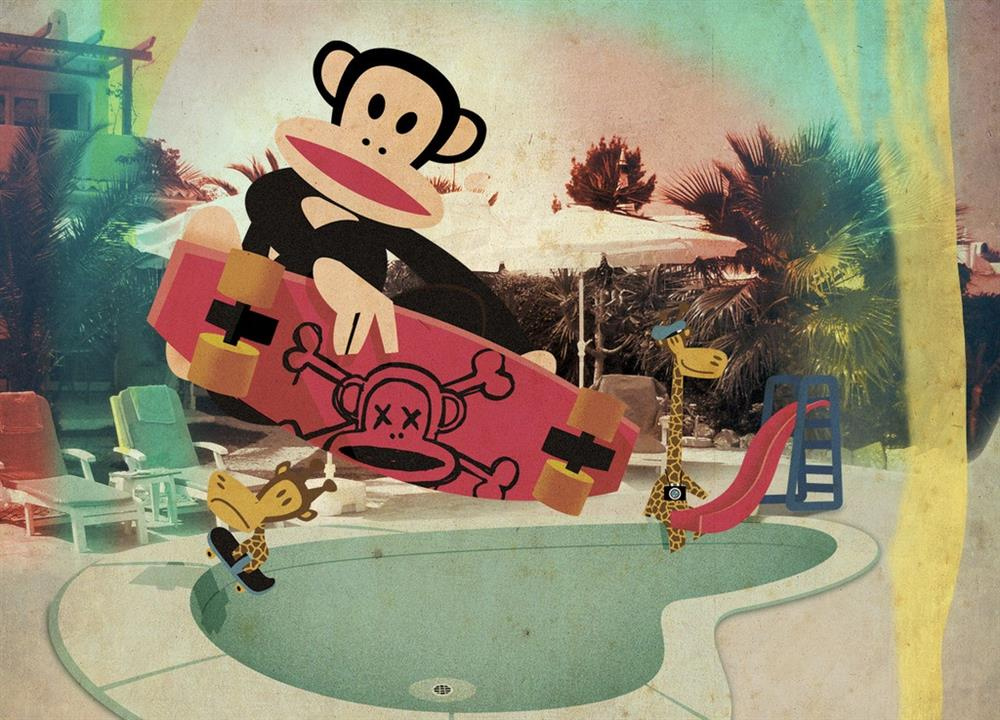Paul_Frank_Julius: (243, 29, 580, 382)
